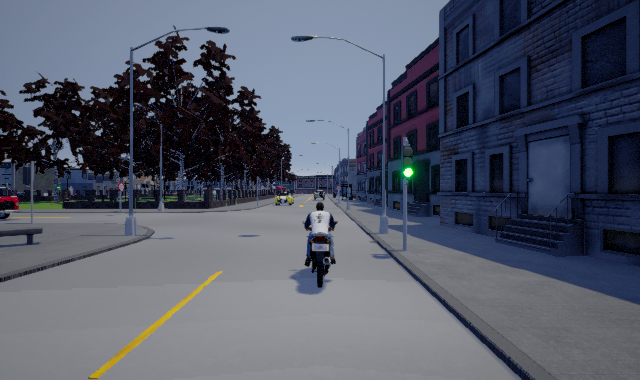motobike: (302, 202, 337, 288)
traffic_light: (401, 139, 413, 185)
vehicle: (1, 187, 25, 219), (274, 190, 293, 205)
